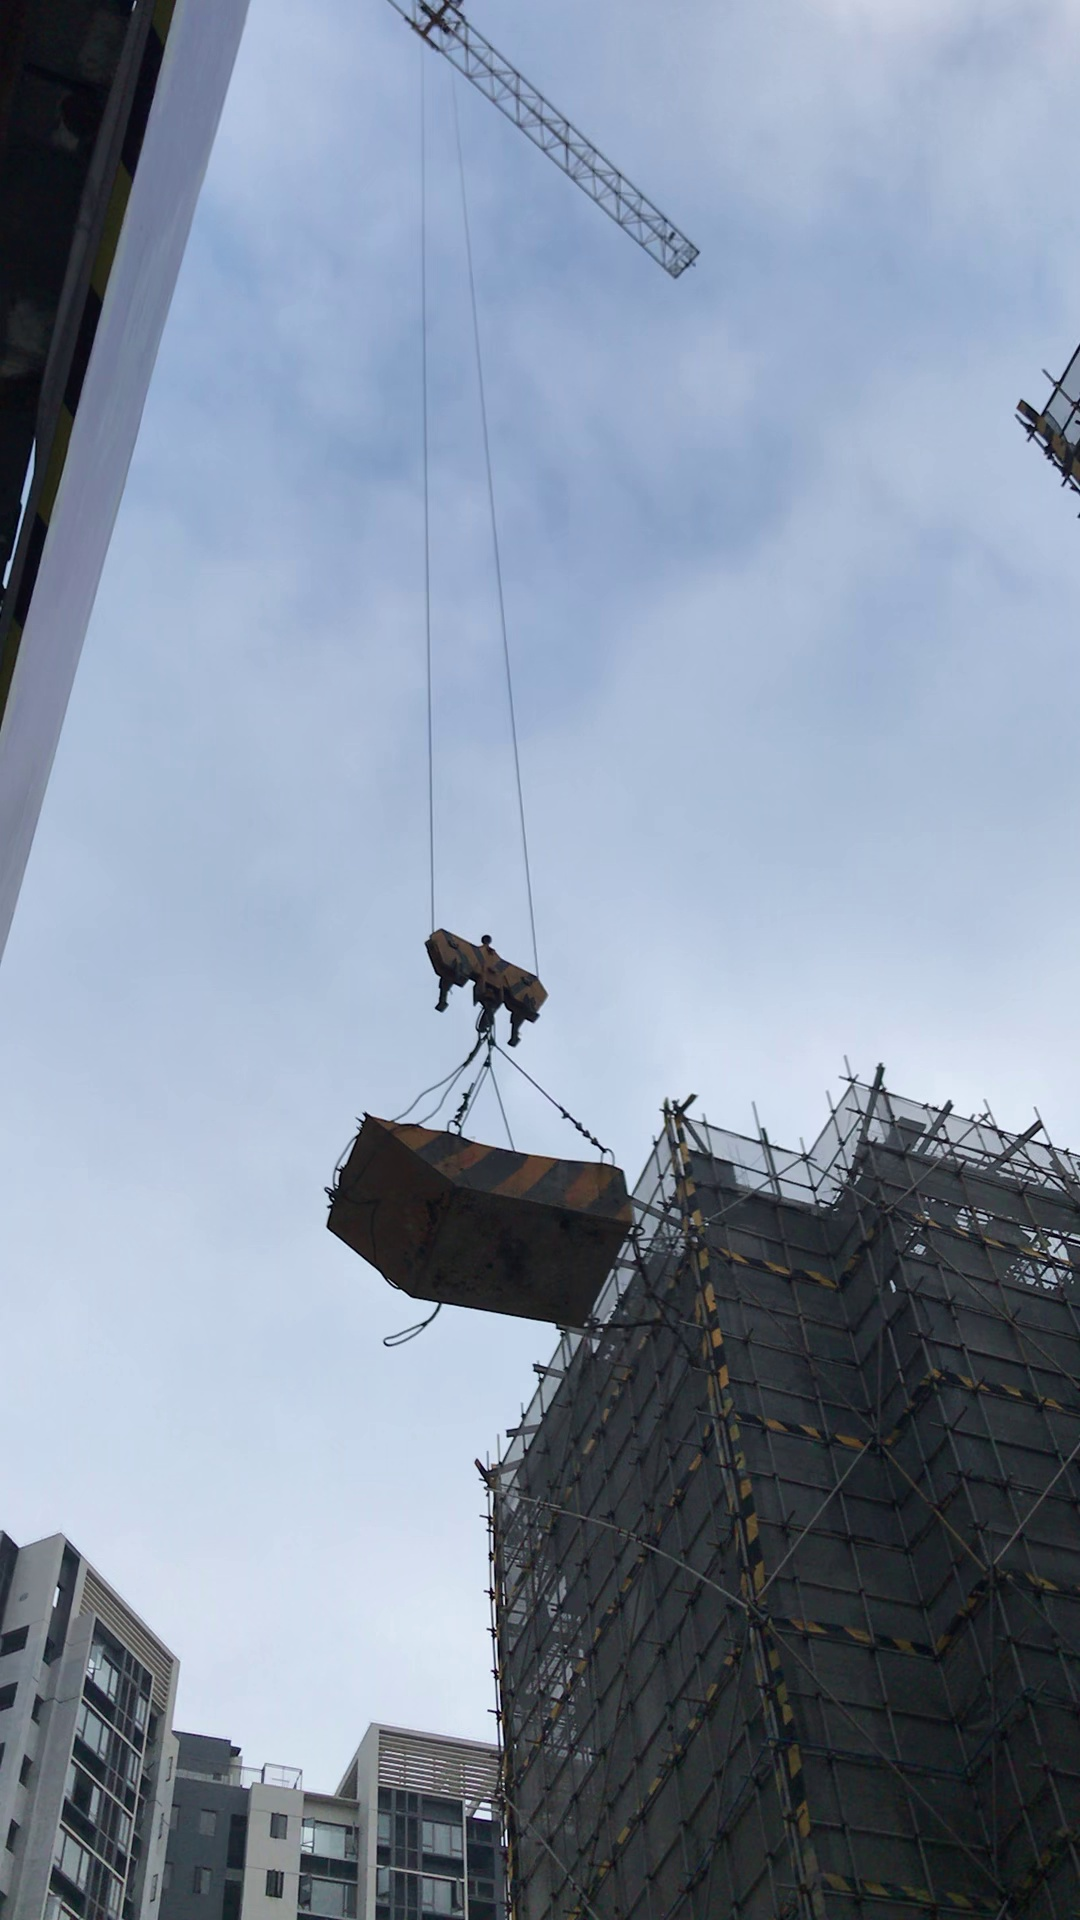hook: (414, 931, 545, 1048)
